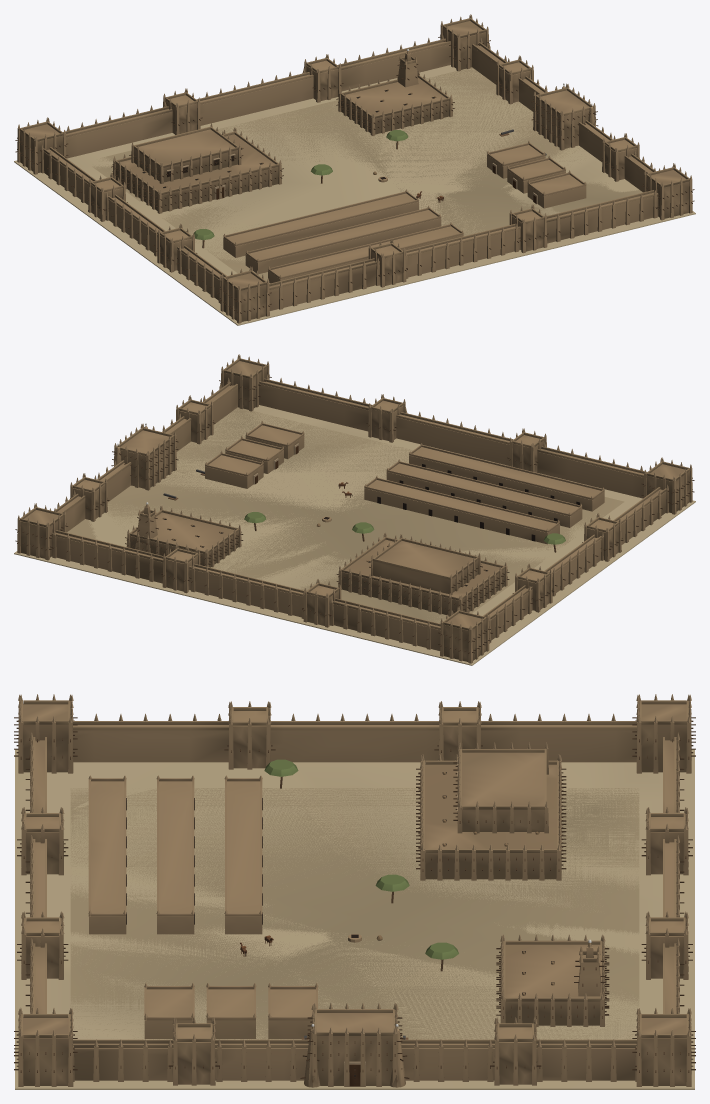
Rendered from kasbah.glb.
3 renders of one model, top to bottom at view 1: azimuth 30°, elevation 25°; view 2: azimuth 150°, elevation 25°; view 3: azimuth 270°, elevation 25°, orthographic. The views are drawn at different scales.
Visible parts, largest first — view 1: p1_walls, p0_ground, p2_buildings, p3_towers; view 2: p1_walls, p0_ground, p2_buildings, p3_towers; view 3: p0_ground, p1_walls, p2_buildings, p3_towers.
Part boxes in pixels (x1,y1,x2,y2): p1_walls: (15,14,694,323); p0_ground: (14,65,695,325); p2_buildings: (111,70,586,283); p3_towers: (142,49,546,248); p1_walls: (15,354,694,663); p0_ground: (14,405,695,665); p2_buildings: (125,421,604,616); p3_towers: (135,469,565,586); p0_ground: (15,749,694,1089); p1_walls: (14,694,695,1087); p2_buildings: (88,742,609,1038); p3_towers: (240,759,608,1039).
Size of the model in its own units: 130 by 13.8 by 110.
